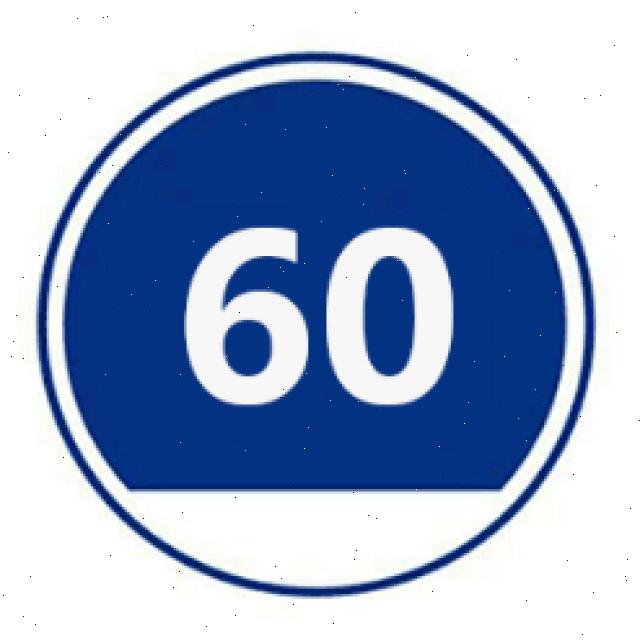speed limit 60: (34, 50, 598, 604)
